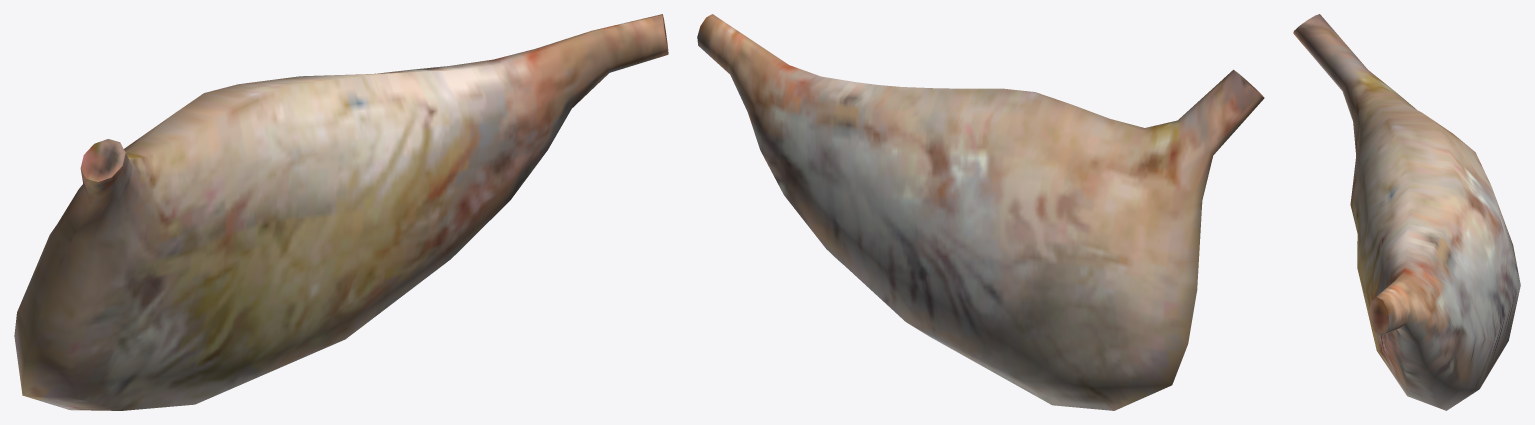
The model's file is eqp_organ_stomach_s01_l0.fbx.
3 renders of one model, left to right at view 1: azimuth 30°, elevation 25°; view 2: azimuth 150°, elevation 25°; view 3: azimuth 270°, elevation 25°, orthographic. The views are drawn at different scales.
Visible parts, largest first — view 1: mesh_node; view 2: mesh_node; view 3: mesh_node.
Boxes of the visible parts, <box> form: mesh_node: <box>14,14,668,410</box>; mesh_node: <box>697,14,1264,410</box>; mesh_node: <box>1293,14,1520,410</box>.
Bounding box in the file's own units: 0.8149 × 0.4481 × 0.3036.
